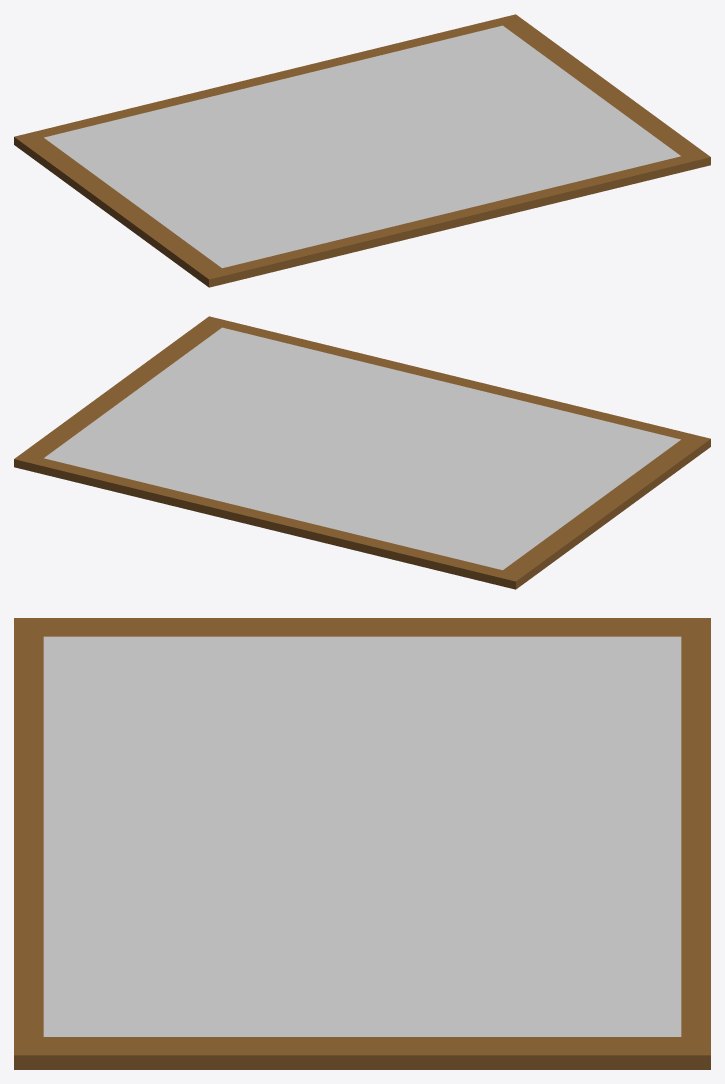
The model's file is aplastado.fbx.
The picture shows the model from 3 angles, top to bottom: view 1: azimuth 30°, elevation 25°; view 2: azimuth 150°, elevation 25°; view 3: azimuth 270°, elevation 25°; orthographic projection. The views are drawn at different scales.
Parts seen in each view (by area): view 1: Plane; view 2: Plane; view 3: Plane.
Part boxes in pixels (box(x1,y1,x2,y2)): Plane: box(14, 14, 710, 287); Plane: box(14, 316, 710, 589); Plane: box(14, 618, 710, 1069).
Size of the model in its own units: 1226 by 18.98 by 825.
